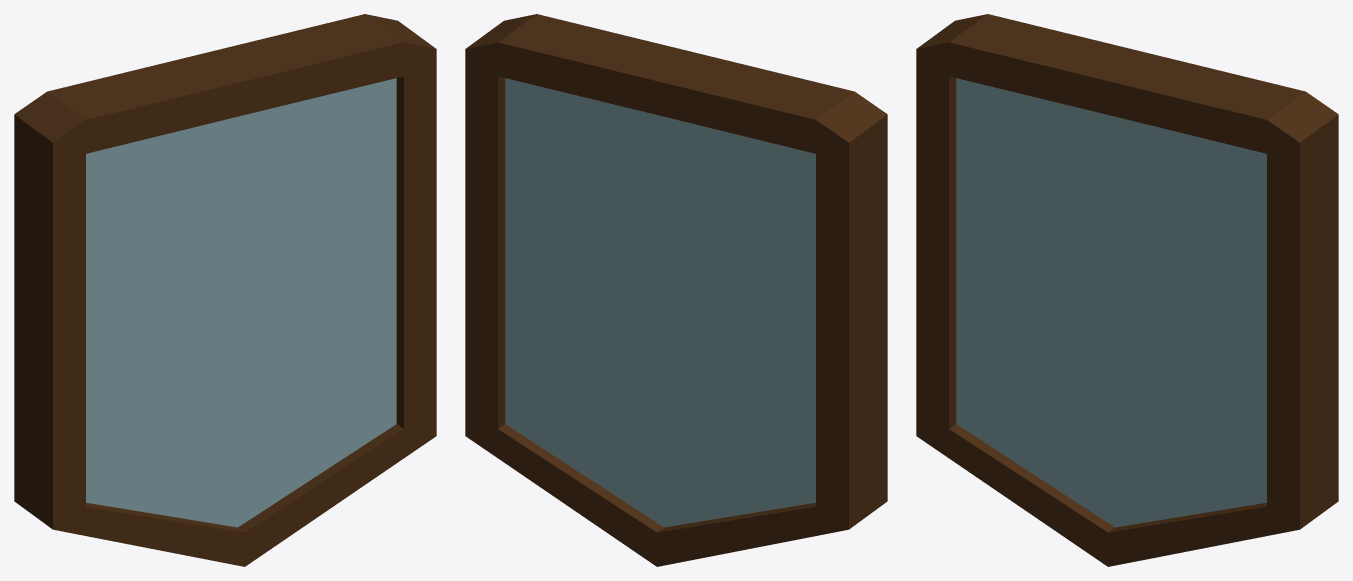
The picture shows the model from 3 angles, left to right: view 1: azimuth 30°, elevation 25°; view 2: azimuth 150°, elevation 25°; view 3: azimuth 330°, elevation 25°; orthographic projection.
Parts seen in each view (by area): view 1: 立方体; view 2: 立方体; view 3: 立方体.
Boxes of the visible parts, bbox=[...] form: 立方体: bbox=[14, 14, 436, 566]; 立方体: bbox=[465, 14, 887, 566]; 立方体: bbox=[916, 14, 1338, 566].
Bounding box in the file's own units: 631 × 764 × 111.
